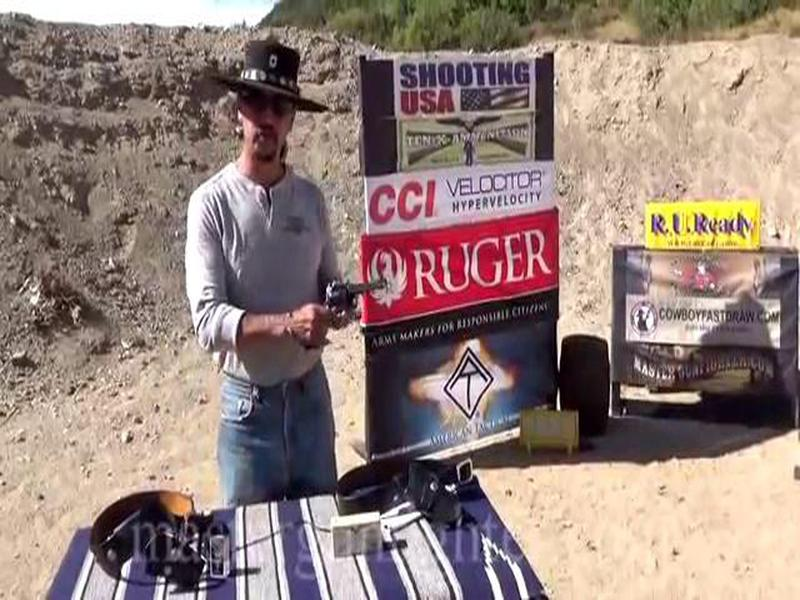Revolver: (298, 272, 402, 354)
